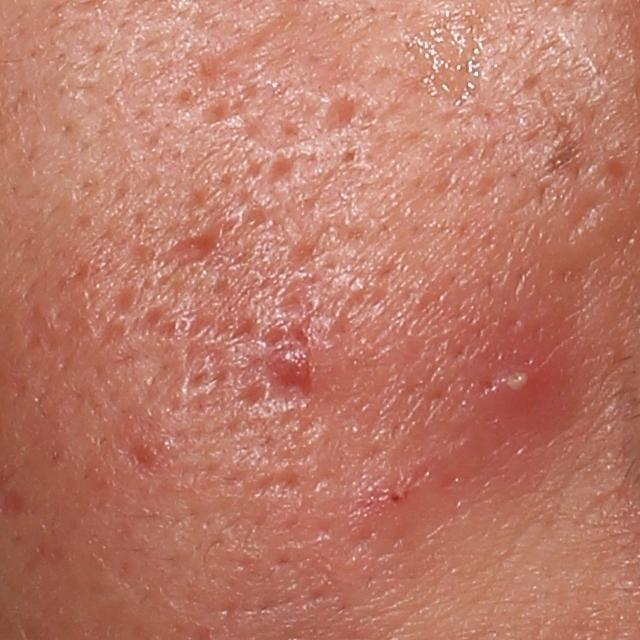atrophic_scar: (115, 421, 174, 477), (158, 226, 225, 268), (314, 90, 364, 136), (235, 471, 307, 497), (261, 152, 296, 197), (605, 152, 635, 192)
comedo: (169, 315, 189, 338)
papule: (265, 341, 324, 394)
pustule: (487, 361, 556, 416)
